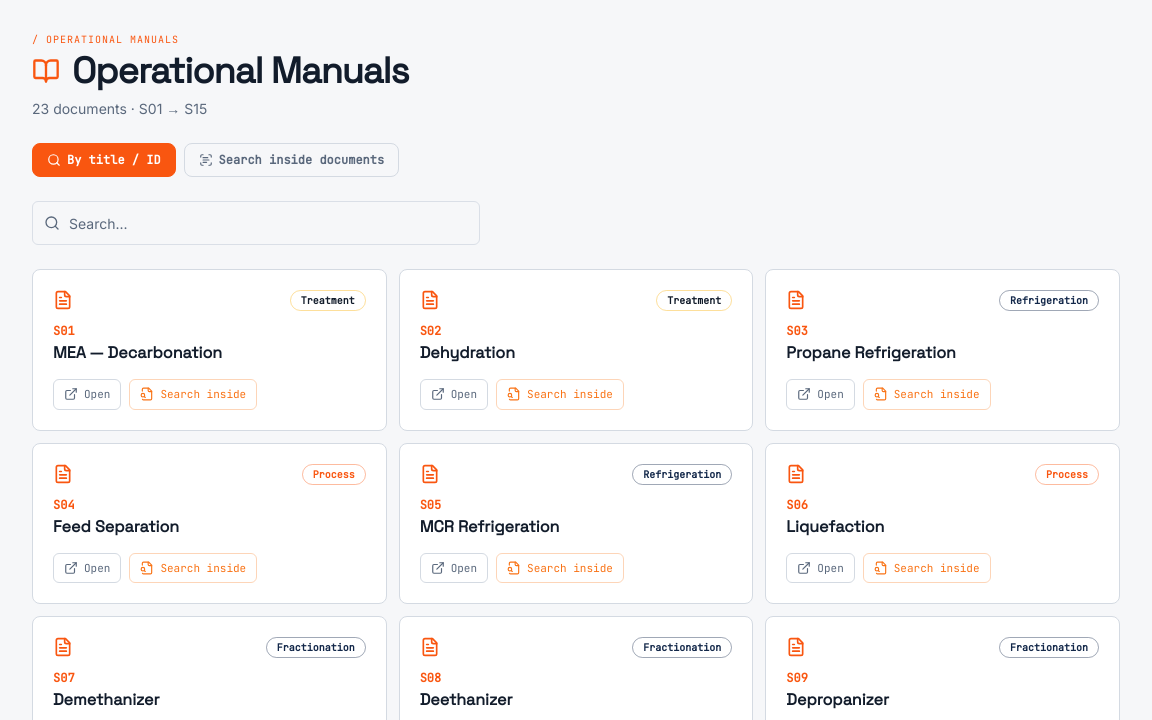
Test: Manuals page — operational manual section › highlights every occurrence deterministically, including tag variants
The width and height of the screenshot is (1152, 720).
Click the button "Search inside documents". click: (291,160)
box: [184,143,399,177]
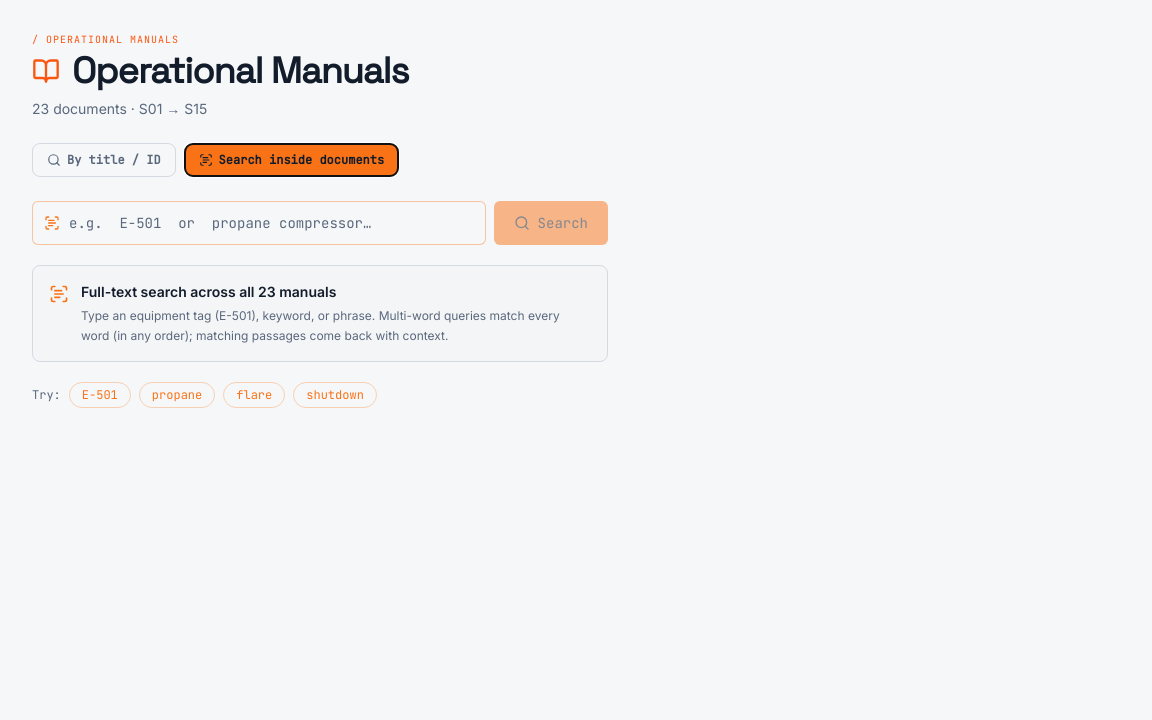
Expected: the button "E-501" is shown, [69,382,131,408]
Type "e-501" into the field. click: (259,223)
box: [32,201,486,245]
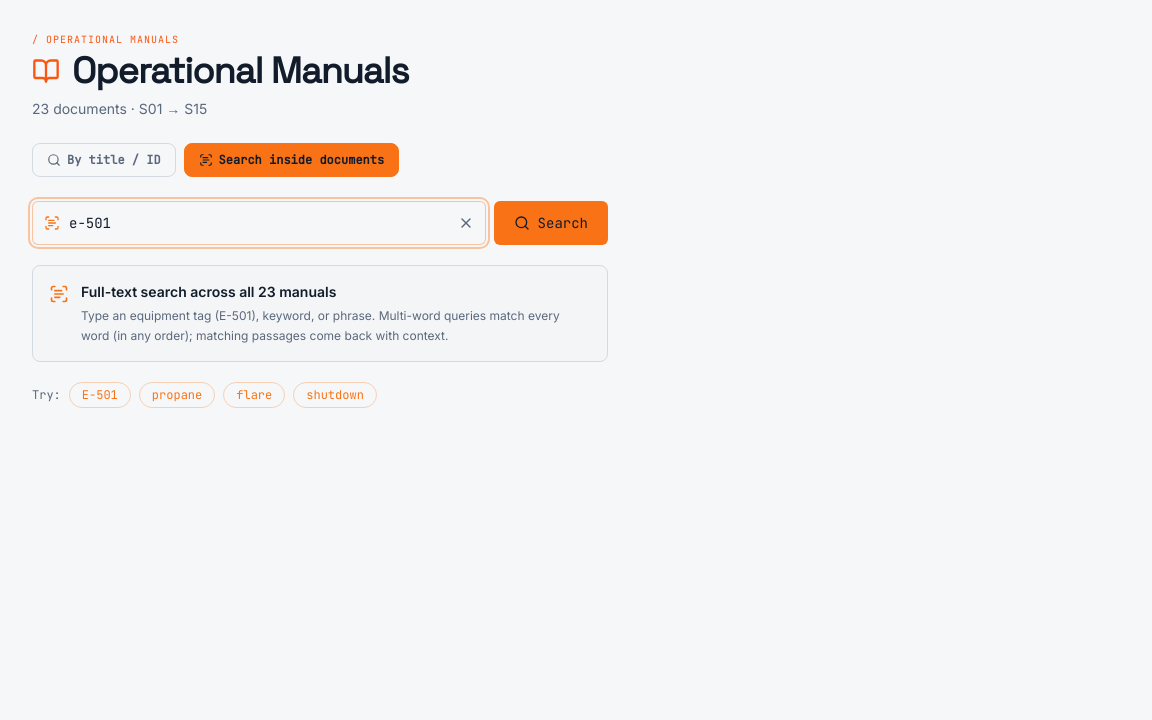
Click the button "Search". click: (551,223)
box: [494,201,608,245]
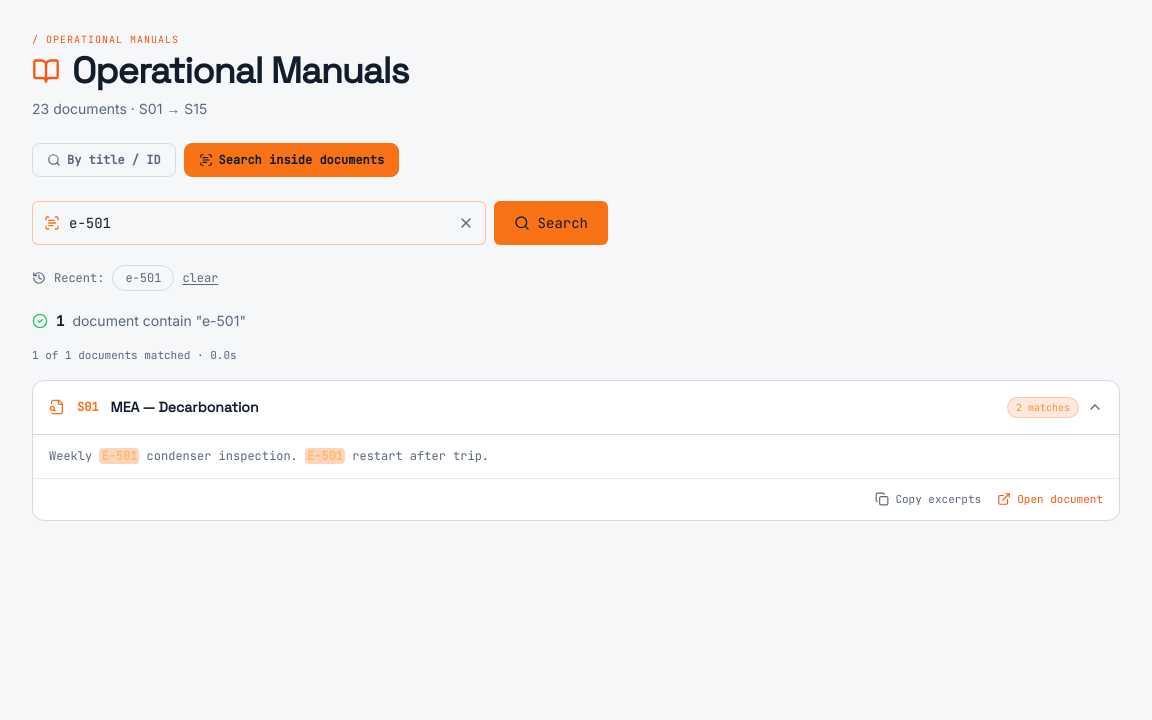
Expected: the text "1 of 1 documents matched · 0.0s" is shown, [32,348,237,362]
